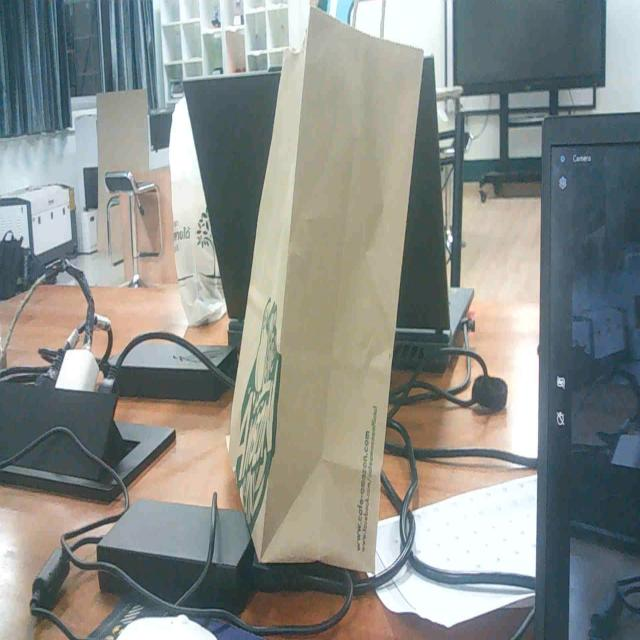bag: (218, 15, 422, 569)
